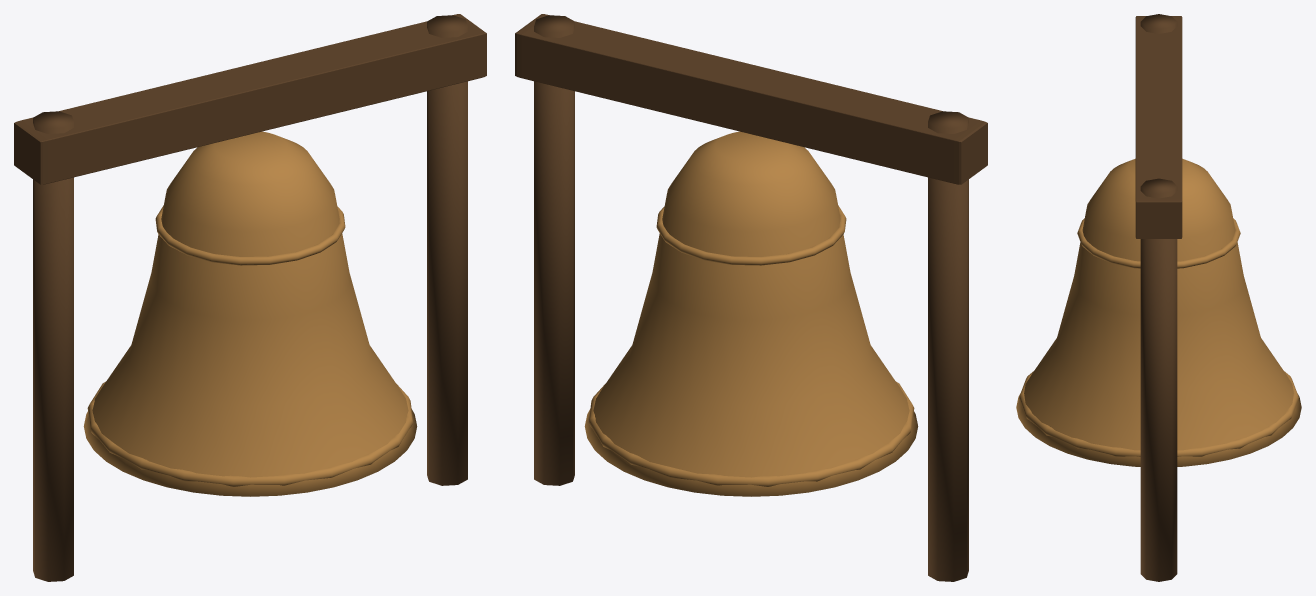
Rendered from glocke.glb.
The picture shows the model from 3 angles, left to right: view 1: azimuth 30°, elevation 25°; view 2: azimuth 150°, elevation 25°; view 3: azimuth 270°, elevation 25°; orthographic projection. The views are drawn at different scales.
Parts seen in each view (by area): view 1: d; view 2: d; view 3: d.
Boxes of the visible parts, bbox=[...] form: d: bbox=[14, 14, 486, 581]; d: bbox=[515, 14, 987, 581]; d: bbox=[1016, 14, 1301, 581].
Size of the model in its own units: 1.7 by 1.65 by 1.1.
